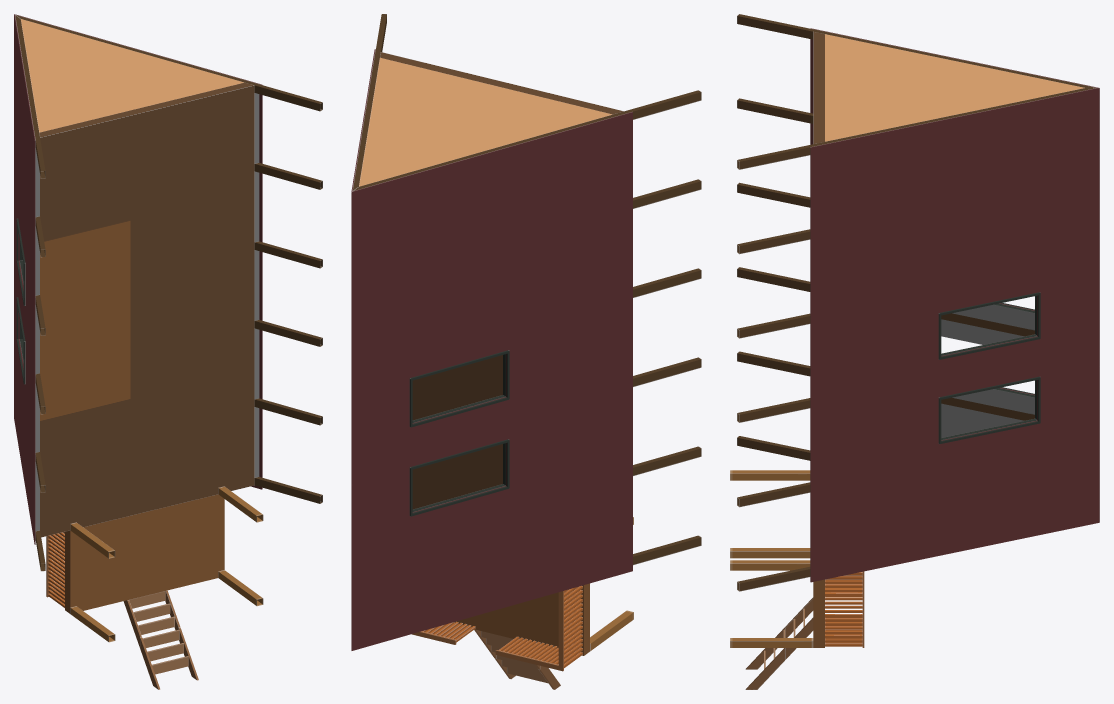
File: GUPO_CABIN_04.fbx
3 views of the same model, side by side, from view 1: azimuth 30°, elevation 25°; view 2: azimuth 150°, elevation 25°; view 3: azimuth 270°, elevation 25° (orthographic). The views are drawn at different scales.
Parts seen in each view (by area): view 1: cabin; view 2: cabin; view 3: cabin.
Part boxes in pixels (left/top/right/bottom): cabin: left=14, top=14, right=322, bottom=689; cabin: left=351, top=14, right=701, bottom=689; cabin: left=730, top=14, right=1099, bottom=689.
Size of the model in its own units: 6928 by 7316 by 12916.
Materials: 1 (1 with a texture image).
